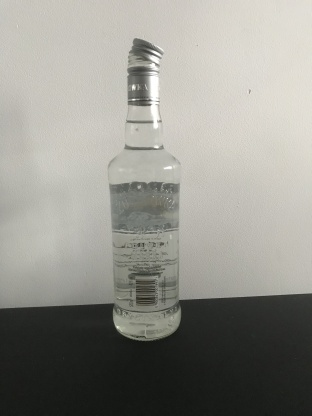nakretka: (125, 35, 166, 106)
